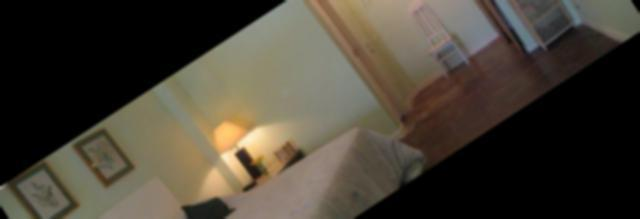Puerta: (305, 0, 418, 133)
